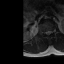CCS_normal: (47, 29, 49, 37)
LFS_stenosis: (51, 28, 54, 34)
LLS_normal: (49, 28, 52, 35)
RFS_stenosis: (42, 29, 44, 35)
RLS_normal: (45, 29, 47, 35)
